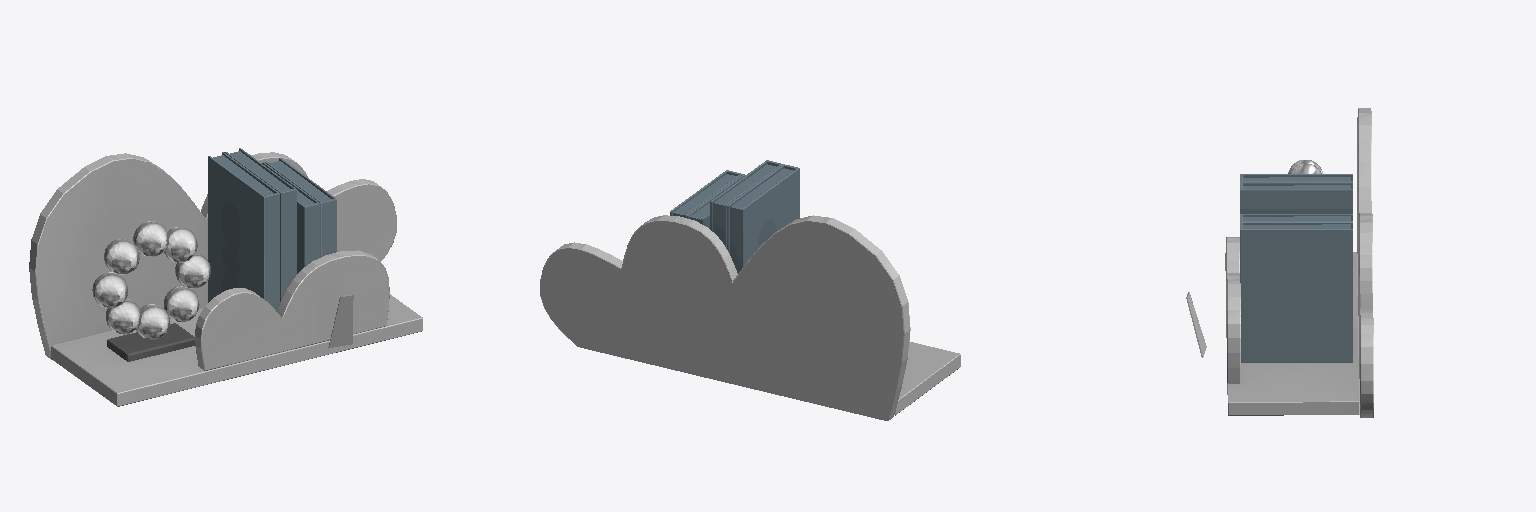
3 views of the same model, side by side, from view 1: azimuth 30°, elevation 25°; view 2: azimuth 150°, elevation 25°; view 3: azimuth 270°, elevation 25° (orthographic).
Visible parts, largest first — view 1: solid_003, solid_004, solid_005, solid_002, solid_001; view 2: solid_003, solid_004; view 3: solid_004, solid_003.
Part boxes in pixels (bbox=[...]): solid_003: bbox=[29, 152, 422, 406]; solid_004: bbox=[208, 148, 336, 311]; solid_005: bbox=[92, 221, 210, 339]; solid_002: bbox=[107, 323, 194, 361]; solid_001: bbox=[328, 295, 353, 347]; solid_003: bbox=[540, 215, 960, 420]; solid_004: bbox=[670, 160, 799, 273]; solid_004: bbox=[1240, 174, 1352, 362]; solid_003: bbox=[1225, 108, 1373, 417].
Bounding box in the file's own units: 2 × 0.969 × 0.8942.
1 materials, 1 textured.